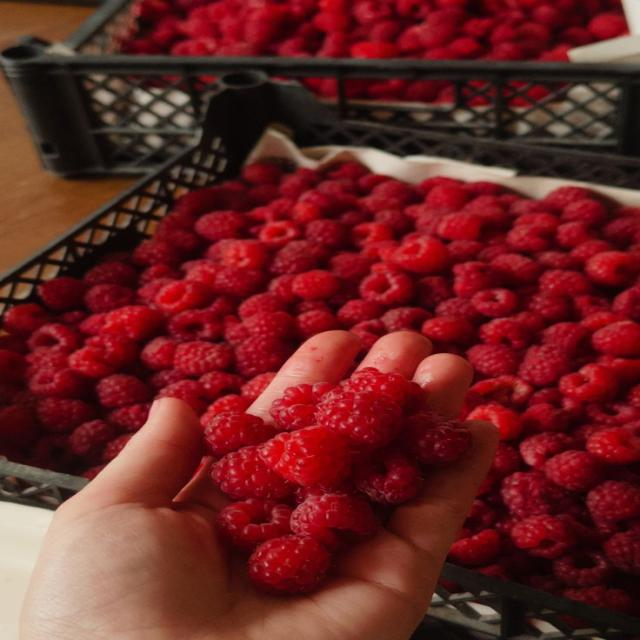raspberry: (260, 427, 351, 488), (316, 391, 400, 449), (291, 493, 376, 548), (249, 536, 330, 593), (212, 446, 293, 500), (217, 499, 292, 550), (354, 450, 422, 504), (401, 413, 471, 464), (205, 413, 276, 456), (500, 472, 567, 517), (270, 383, 334, 430), (69, 334, 138, 377), (341, 367, 419, 404), (511, 515, 575, 559), (544, 450, 605, 491), (174, 183, 248, 216), (518, 345, 573, 386), (235, 336, 290, 377), (559, 364, 618, 402), (101, 306, 162, 341), (587, 423, 639, 464), (393, 236, 449, 274), (554, 551, 612, 587), (587, 481, 639, 521), (174, 341, 233, 376), (562, 585, 635, 613), (36, 398, 94, 433), (520, 432, 575, 468), (448, 529, 501, 566), (154, 281, 213, 314), (467, 405, 522, 440), (95, 374, 151, 408), (585, 251, 639, 286), (470, 376, 533, 406), (68, 420, 117, 458), (28, 369, 89, 398), (167, 308, 221, 340), (0, 405, 39, 449), (467, 344, 520, 376), (592, 321, 639, 357), (420, 315, 474, 346), (453, 261, 499, 297), (491, 253, 541, 286), (479, 318, 532, 349), (38, 277, 86, 311), (27, 323, 81, 353), (214, 267, 265, 298), (604, 530, 639, 575), (195, 211, 245, 242), (201, 394, 250, 425), (541, 323, 590, 354), (271, 242, 318, 274), (522, 403, 572, 433), (3, 304, 50, 335), (84, 285, 136, 313), (220, 239, 269, 268), (374, 307, 430, 332), (243, 311, 293, 339), (293, 270, 339, 300), (540, 269, 591, 296), (507, 224, 554, 253), (435, 297, 483, 325), (580, 308, 626, 337), (140, 336, 178, 371), (83, 262, 138, 286), (132, 239, 180, 266), (472, 289, 518, 317), (438, 212, 483, 240), (305, 219, 347, 249), (417, 276, 454, 310), (488, 442, 521, 480), (107, 403, 150, 432), (561, 199, 608, 225), (238, 293, 285, 319), (294, 311, 339, 338), (199, 372, 244, 399), (330, 252, 373, 280), (542, 187, 594, 210), (259, 220, 301, 248), (425, 184, 470, 210), (350, 320, 386, 352), (587, 403, 639, 425), (601, 217, 639, 247), (464, 500, 498, 533), (240, 372, 276, 402), (556, 221, 594, 249), (587, 13, 627, 39), (570, 239, 613, 263), (138, 278, 177, 304), (183, 261, 222, 287), (138, 264, 180, 287), (612, 286, 639, 321), (374, 209, 412, 233), (101, 434, 133, 462), (268, 275, 297, 304), (0, 349, 25, 382), (447, 241, 484, 263), (223, 316, 249, 346), (536, 251, 579, 269), (350, 42, 398, 58), (512, 310, 545, 333), (80, 464, 106, 480), (627, 385, 639, 408)
